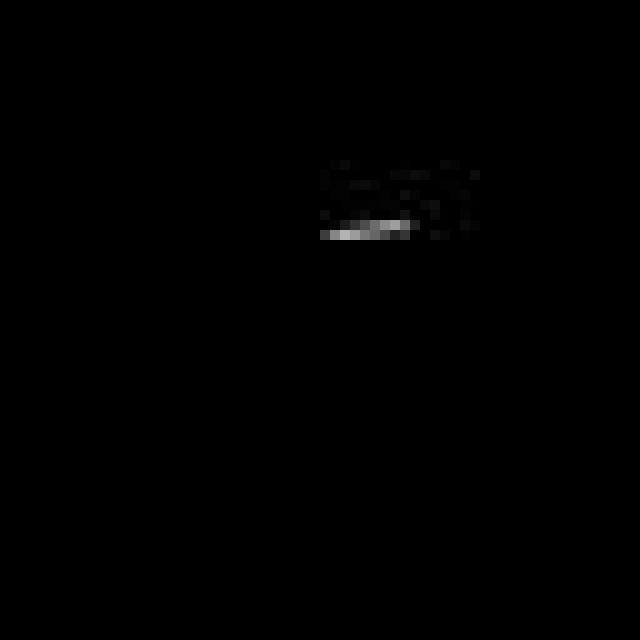1 -one-: (320, 204, 418, 253)
